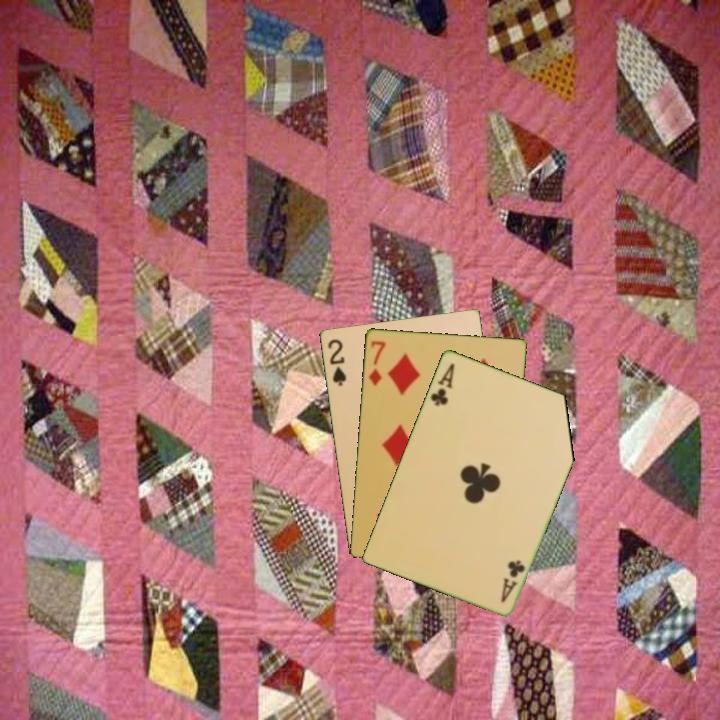2s: (324, 335, 349, 388)
7d: (365, 337, 388, 388)
Ac: (426, 359, 457, 409), (497, 556, 528, 605)
